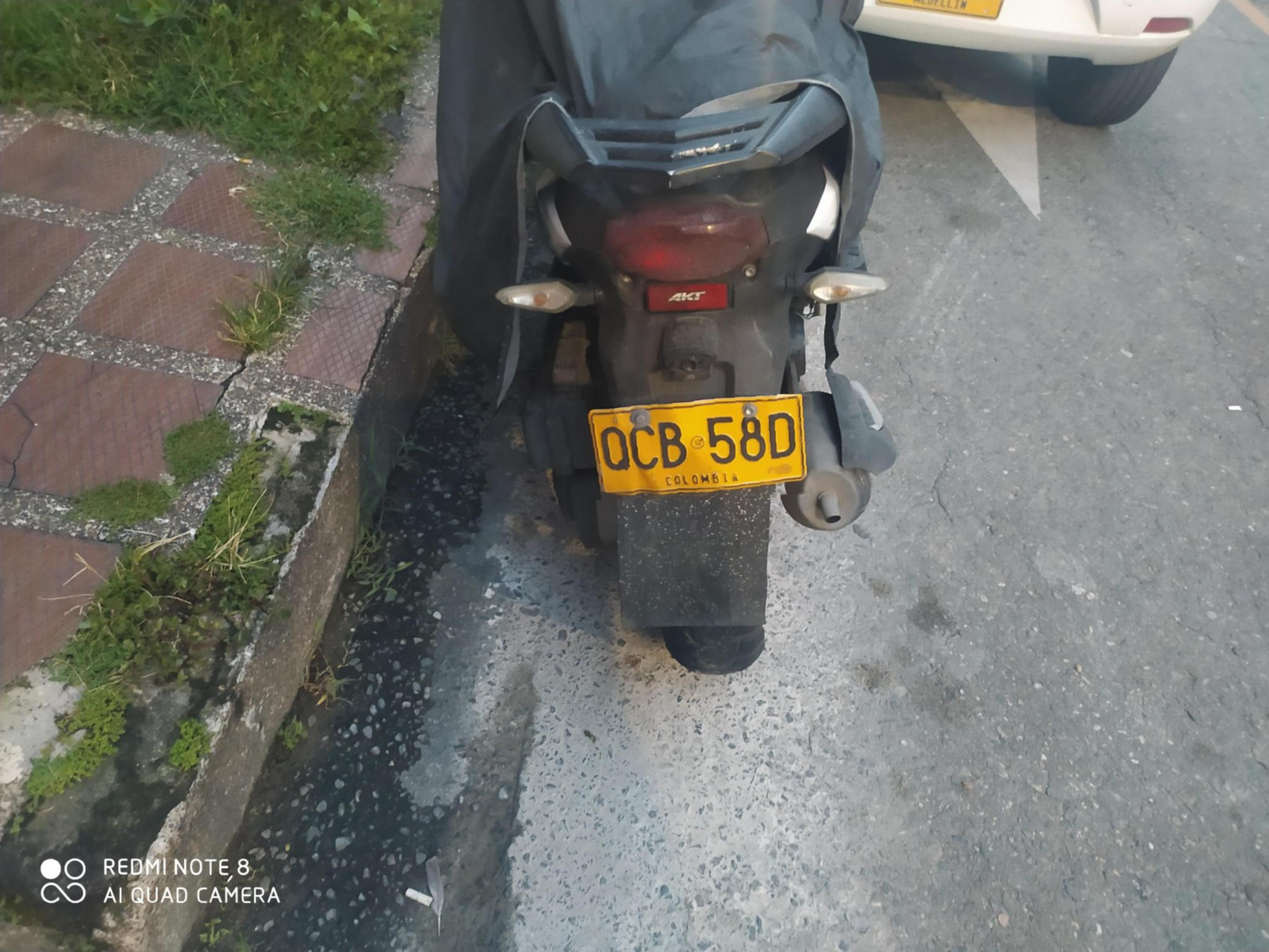placa: (578, 394, 813, 501)
